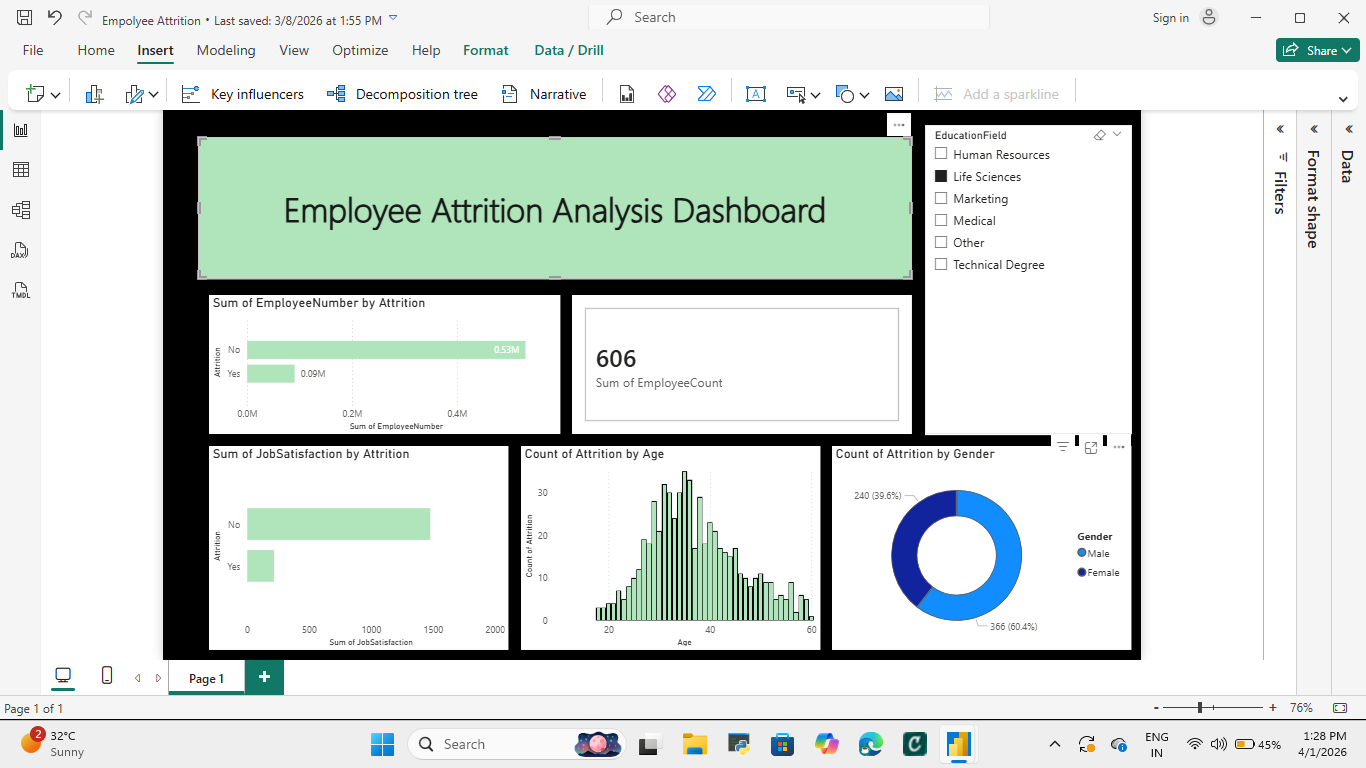

This screenshot's page, from the dashboard's own definition file:
{"tool":"powerbi","page":{"name":"Page 1","canvas":[1280,720],"ordinal":0},"visuals":[{"type":"donutChart","fields":{"Category":["WA_Fn-UseC_-HR-Employee-Attrition.Gender"],"Y":["CountNonNull(WA_Fn-UseC_-HR-Employee-Attrition.Attrition)"]},"box":[875.8,439.3,392.3,267.4],"z":1000},{"type":"columnChart","fields":{"Category":["WA_Fn-UseC_-HR-Employee-Attrition.Age"],"Y":["CountNonNull(WA_Fn-UseC_-HR-Employee-Attrition.Attrition)"]},"box":[468.7,439.3,392.3,267.4],"z":2000},{"type":"cardVisual","fields":{"Data":["Sum(WA_Fn-UseC_-HR-Employee-Attrition.EmployeeCount)"]},"box":[534.9,242.4,445.2,182.2],"z":3000},{"type":"slicer","fields":{"Values":["WA_Fn-UseC_-HR-Employee-Attrition.EducationField"]},"box":[997.7,19.1,270.4,405.6],"z":5000},{"type":"barChart","fields":{"Y":["Sum(WA_Fn-UseC_-HR-Employee-Attrition.JobSatisfaction)"],"Category":["WA_Fn-UseC_-HR-Employee-Attrition.Attrition"]},"box":[60.2,439.3,392.3,267.4],"z":6000},{"type":"clusteredBarChart","fields":{"Category":["WA_Fn-UseC_-HR-Employee-Attrition.Attrition"],"Y":["Sum(WA_Fn-UseC_-HR-Employee-Attrition.EmployeeNumber)"]},"box":[60.2,242.4,459.9,182.2],"z":6001},{"type":"shape","box":[45.6,35.3,934.5,186.6],"z":6002}]}

Visuals, with their boxes on the page's 1280x720 design canvas (x1, y1, x2, y2). These are canvas units, not pixel positions in the 1366x768 screenshot, which may show the page scaled, cropped or inside an application window:
donutChart - WA_Fn-UseC_-HR-Employee-Attrition.Gender x CountNonNull(WA_Fn-UseC_-HR-Employee-Attrition.Attrition): left=876, top=439, right=1268, bottom=707
columnChart - WA_Fn-UseC_-HR-Employee-Attrition.Age x CountNonNull(WA_Fn-UseC_-HR-Employee-Attrition.Attrition): left=469, top=439, right=861, bottom=707
cardVisual - Sum(WA_Fn-UseC_-HR-Employee-Attrition.EmployeeCount): left=535, top=242, right=980, bottom=425
slicer - WA_Fn-UseC_-HR-Employee-Attrition.EducationField: left=998, top=19, right=1268, bottom=425
barChart - Sum(WA_Fn-UseC_-HR-Employee-Attrition.JobSatisfaction) x WA_Fn-UseC_-HR-Employee-Attrition.Attrition: left=60, top=439, right=452, bottom=707
clusteredBarChart - WA_Fn-UseC_-HR-Employee-Attrition.Attrition x Sum(WA_Fn-UseC_-HR-Employee-Attrition.EmployeeNumber): left=60, top=242, right=520, bottom=425
shape: left=46, top=35, right=980, bottom=222
